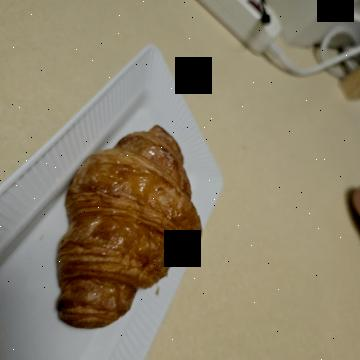croissant: (119, 158, 343, 324)
